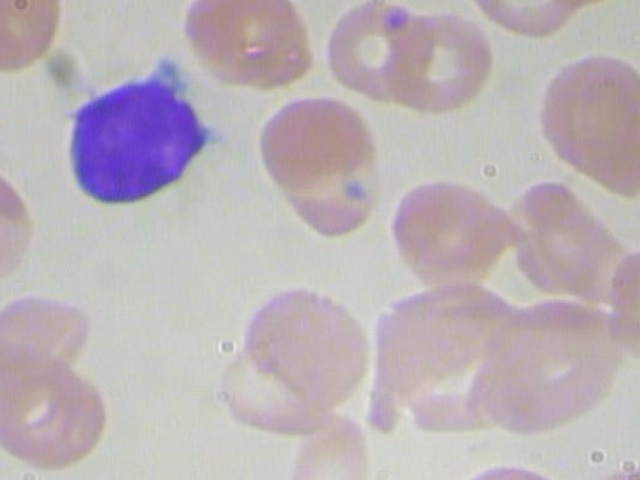RBC: (255, 90, 385, 244), (228, 275, 376, 408), (387, 171, 533, 300), (533, 50, 640, 200), (0, 362, 121, 472), (182, 0, 316, 95), (379, 4, 494, 113), (317, 0, 433, 102), (0, 280, 90, 384), (277, 408, 375, 480), (0, 157, 49, 292), (0, 0, 63, 78)
WBC: (49, 65, 231, 220)
